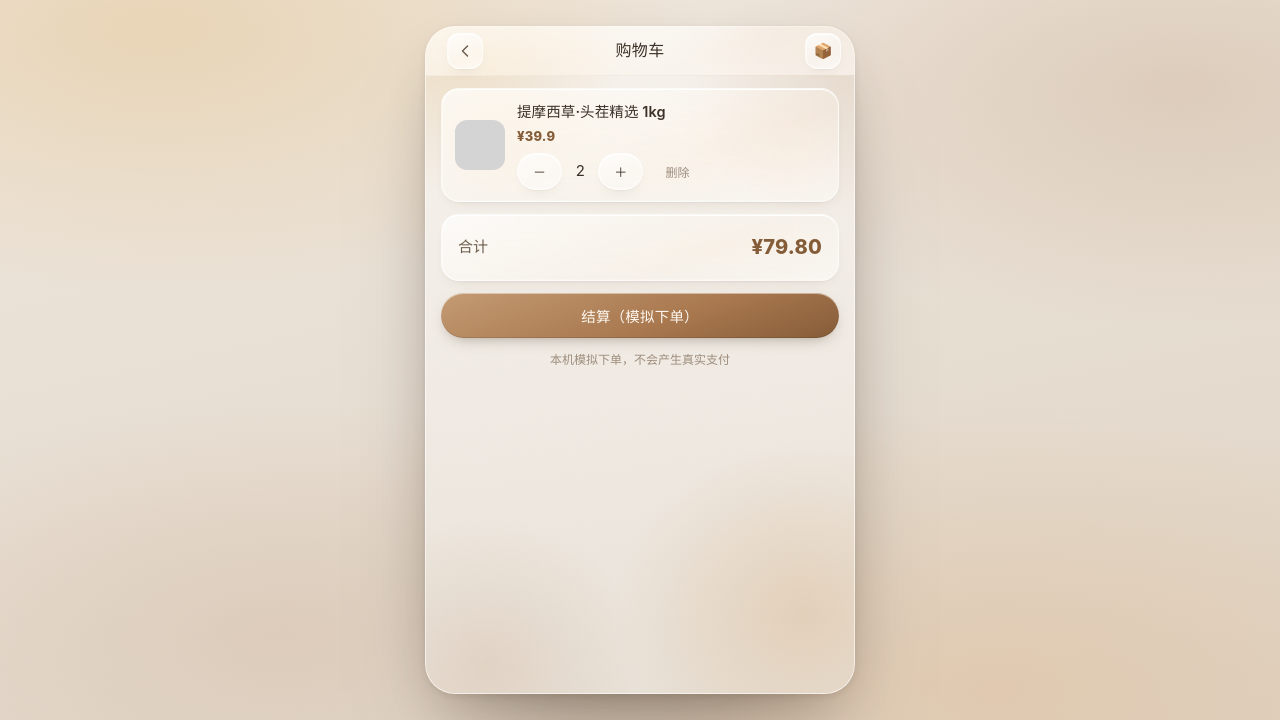
Test: 阶段2 批次H · 商城 › 点「结算」弹出确认下单弹窗，可填收货地址（验收 H4）
Click the button "结算（模拟下单）" at x=640, y=316, box [441,293,839,338]
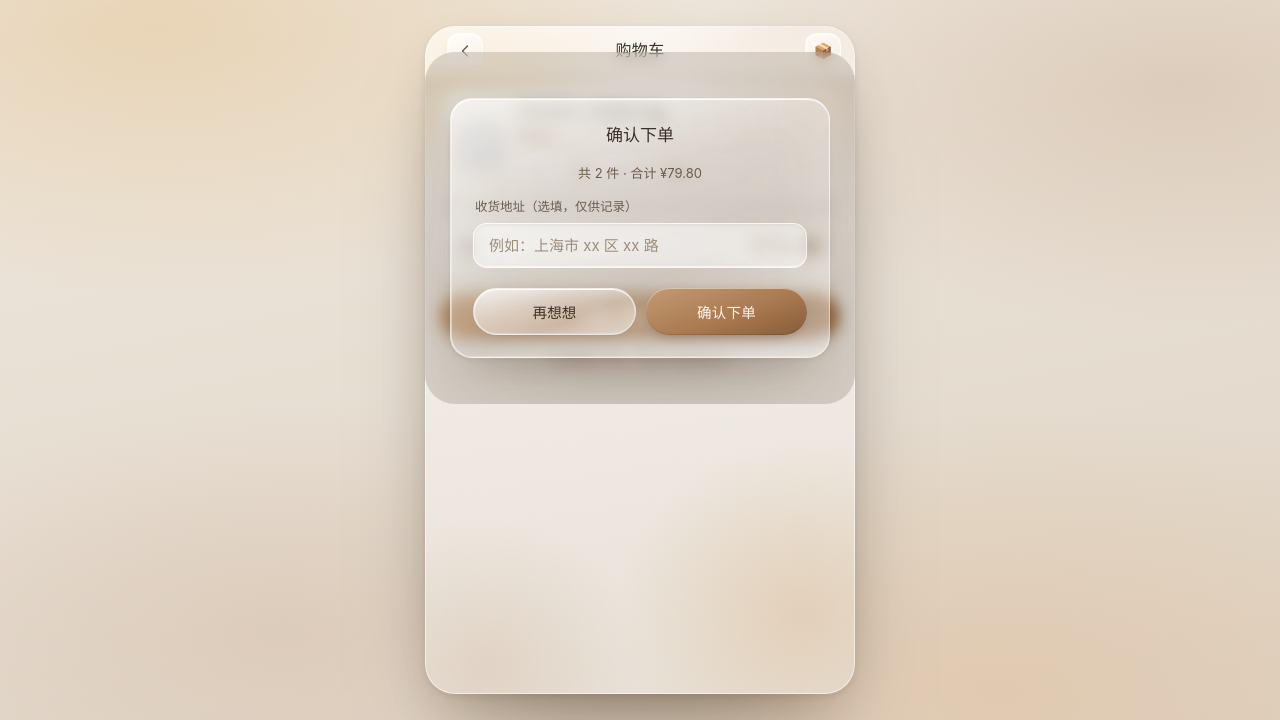
Now the field with placeholder "例如：上海市 xx 区 xx 路" is shown, box [473,223,807,268]
